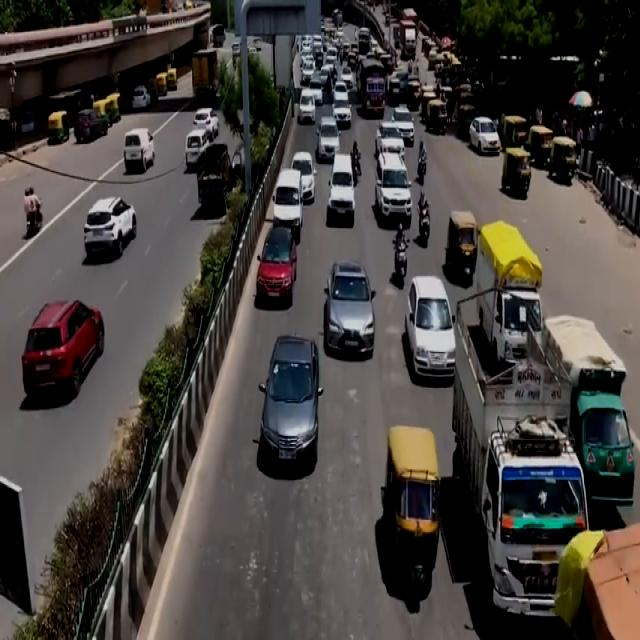MOTORCYCLE: (392, 239, 409, 292), (418, 207, 432, 250), (351, 151, 363, 191), (416, 154, 428, 188)
TRUCK: (450, 292, 586, 635), (356, 59, 386, 122), (193, 50, 221, 99)
